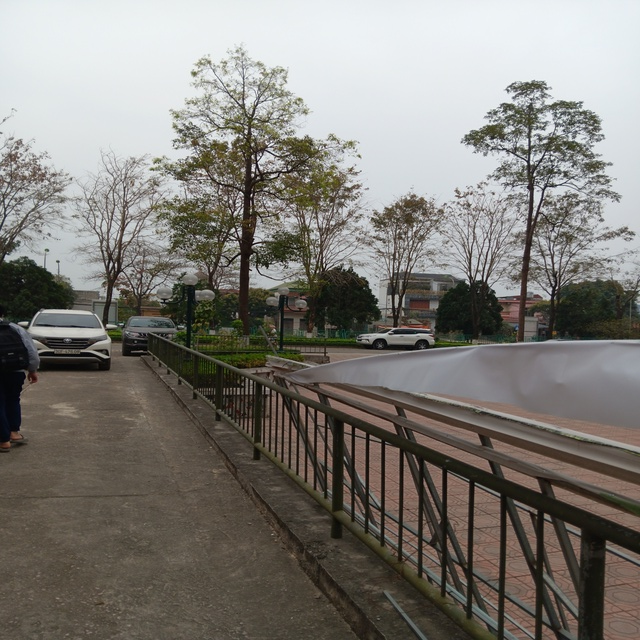cotden: (167, 269, 214, 370), (263, 276, 315, 361)
